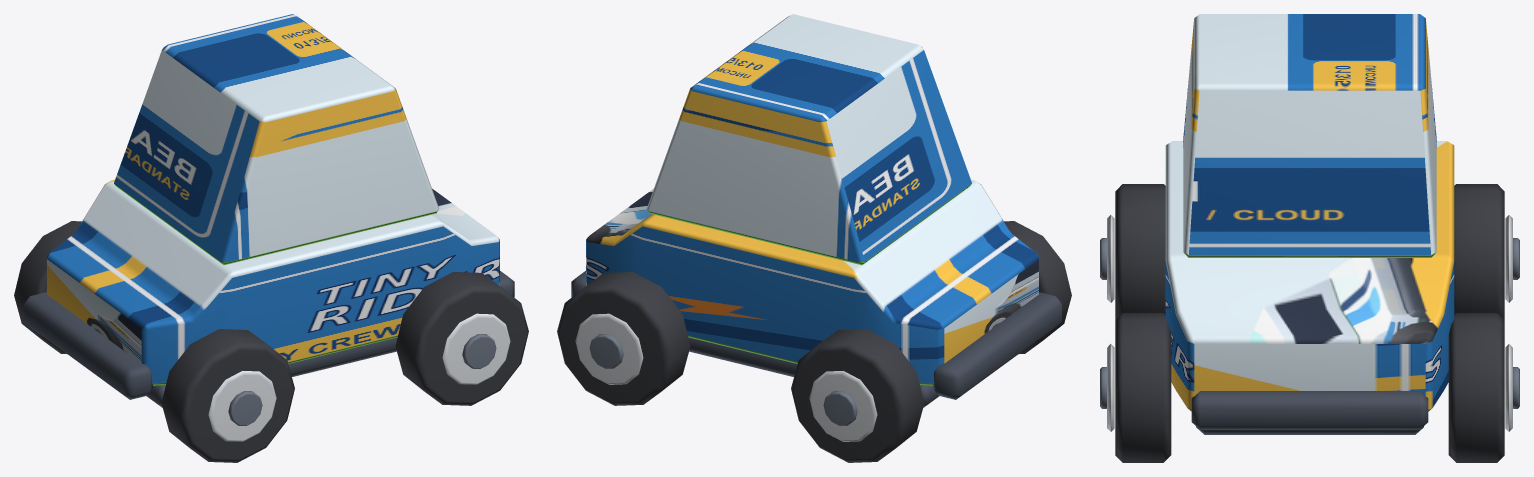
The picture shows the model from 3 angles, left to right: view 1: azimuth 30°, elevation 25°; view 2: azimuth 150°, elevation 25°; view 3: azimuth 270°, elevation 25°; orthographic projection. The views are drawn at different scales.
Parts seen in each view (by area): view 1: CC-02_cabin, CC-02_connected_shell, Tire, Tire.002, front bumper, Rim, Rim.002, Tire.001, underbody, Hub.002, Hub; view 2: CC-02_cabin, CC-02_connected_shell, Tire.001, Tire.003, front bumper, Rim.001, Rim.003, Tire, underbody, Hub.003, Hub.001; view 3: CC-02_cabin, CC-02_connected_shell, rear bumper, Tire.002, Tire.003, Tire, Tire.001, underbody, Rim, Rim.001, Rim.002, Rim.003.
Boxes of the visible parts, x1,y1,x2,y2 form: CC-02_cabin: (114,14,438,265); CC-02_connected_shell: (47,179,499,385); Tire: (161,329,294,462); Tire.002: (395,272,528,405); front bumper: (24,292,152,399); Rim: (208,371,276,441); Rim.002: (442,313,510,384); Tire.001: (14,221,81,353); underbody: (146,337,397,407); Hub.002: (462,334,496,368); Hub: (228,391,262,425); CC-02_cabin: (647,14,971,265); CC-02_connected_shell: (586,179,1038,385); Tire.001: (791,329,924,462); Tire.003: (557,272,690,405); front bumper: (933,292,1061,399); Rim.001: (809,371,877,441); Rim.003: (575,313,643,384); Tire: (1004,221,1071,353); underbody: (688,337,939,407); Hub.003: (589,334,623,368); Hub.001: (823,391,857,425); CC-02_cabin: (1183,14,1436,257); CC-02_connected_shell: (1165,141,1454,411); rear bumper: (1191,391,1428,429); Tire.002: (1115,313,1171,462); Tire.003: (1448,313,1504,462); Tire: (1115,184,1165,319); Tire.001: (1454,184,1504,319); underbody: (1196,426,1423,434); Rim: (1107,215,1114,302); Rim.001: (1505,215,1512,302); Rim.002: (1107,344,1114,431); Rim.003: (1505,344,1512,431).
Bounding box in the file's own units: 238 × 178 × 195.
